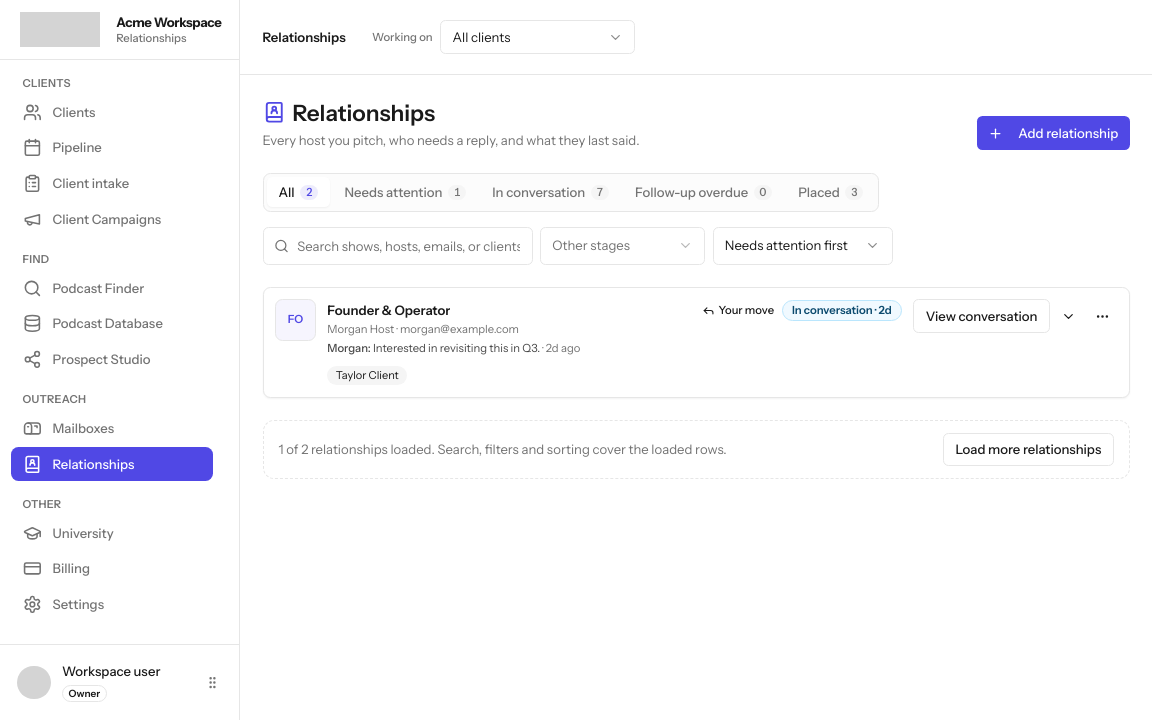
WorkspaceRelationships › turns the header chips into filters with whole-book counts
expect the button "Founder & Operator" is shown: met, box 327,299 -> 450,322
expect the buttons read "All 2", "Needs attention 1", "In conversation 7", "Follow-up overdue 0", "Placed 3", in this order: met, box 267,177 -> 330,207; 333,177 -> 477,207; 481,177 -> 620,207; 624,177 -> 783,207; 787,177 -> 875,207
Step 1. Click the button "Load more relationships" → click(1028, 449), box 943,432 -> 1114,466
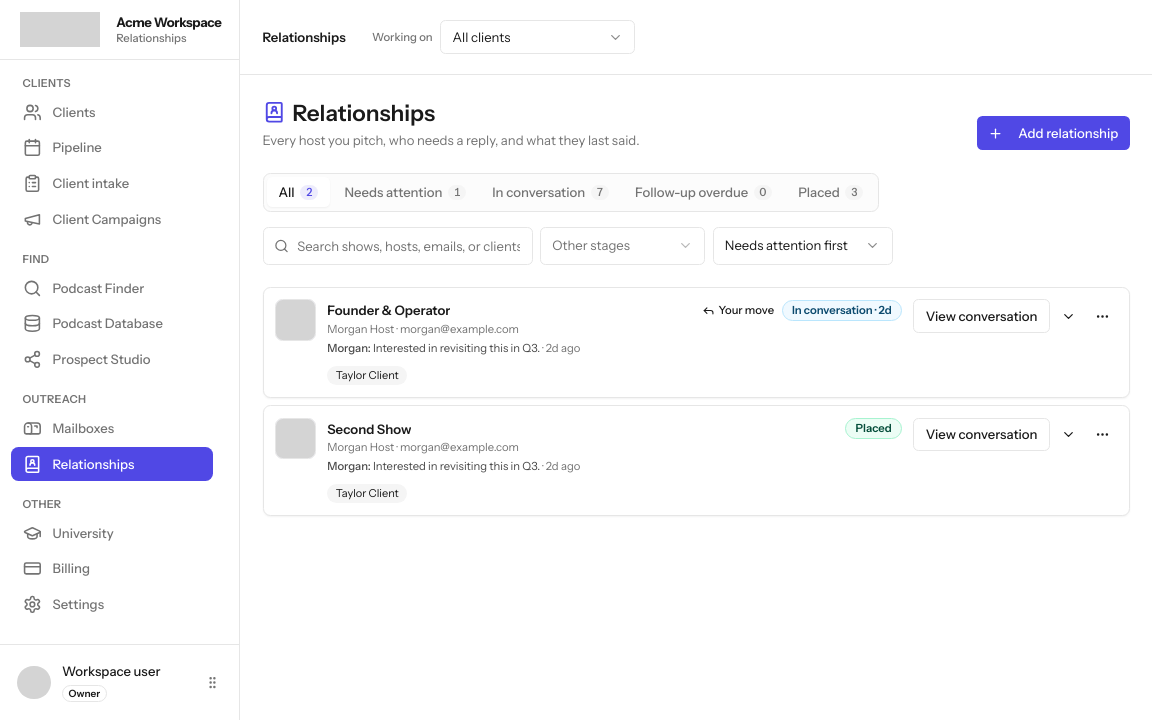
expect the button "Second Show" is shown: met, box 327,418 -> 411,440
Step 2. Click the button "Placed 3" → click(831, 192), box 787,177 -> 875,207
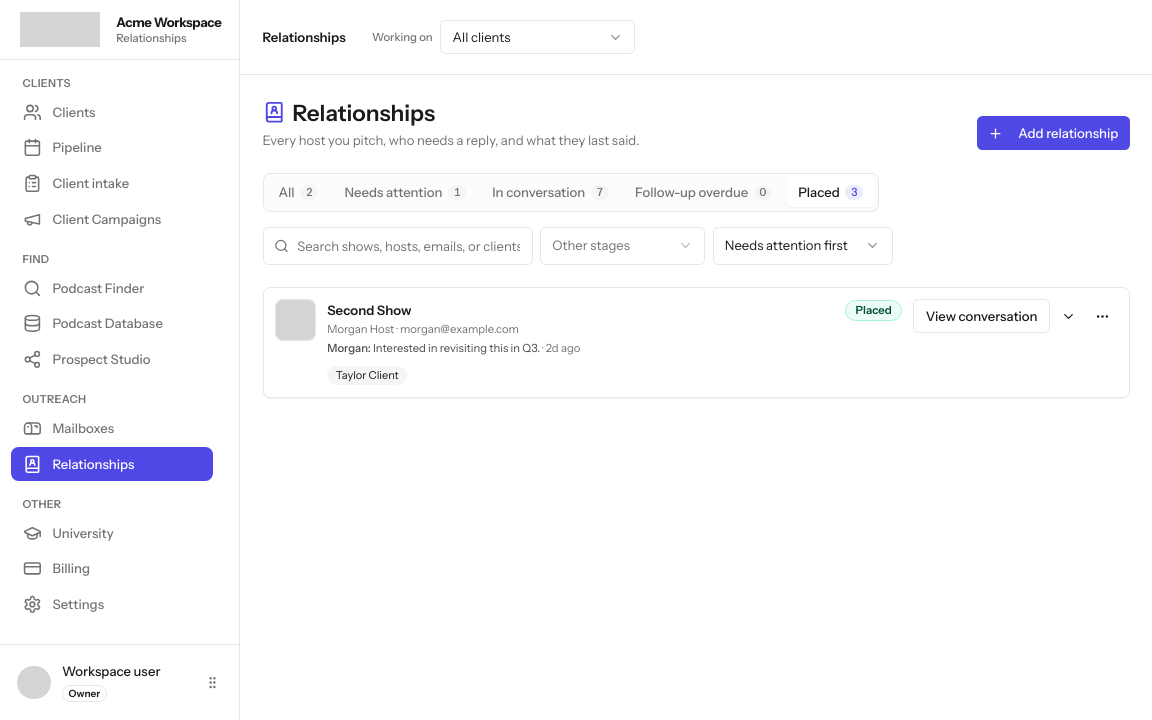
expect the button "Second Show" is shown: met, box 327,299 -> 411,322
expect the button "Founder & Operator" is gone: met
Step 3. Click the button "All 2" → click(298, 192), box 267,177 -> 330,207
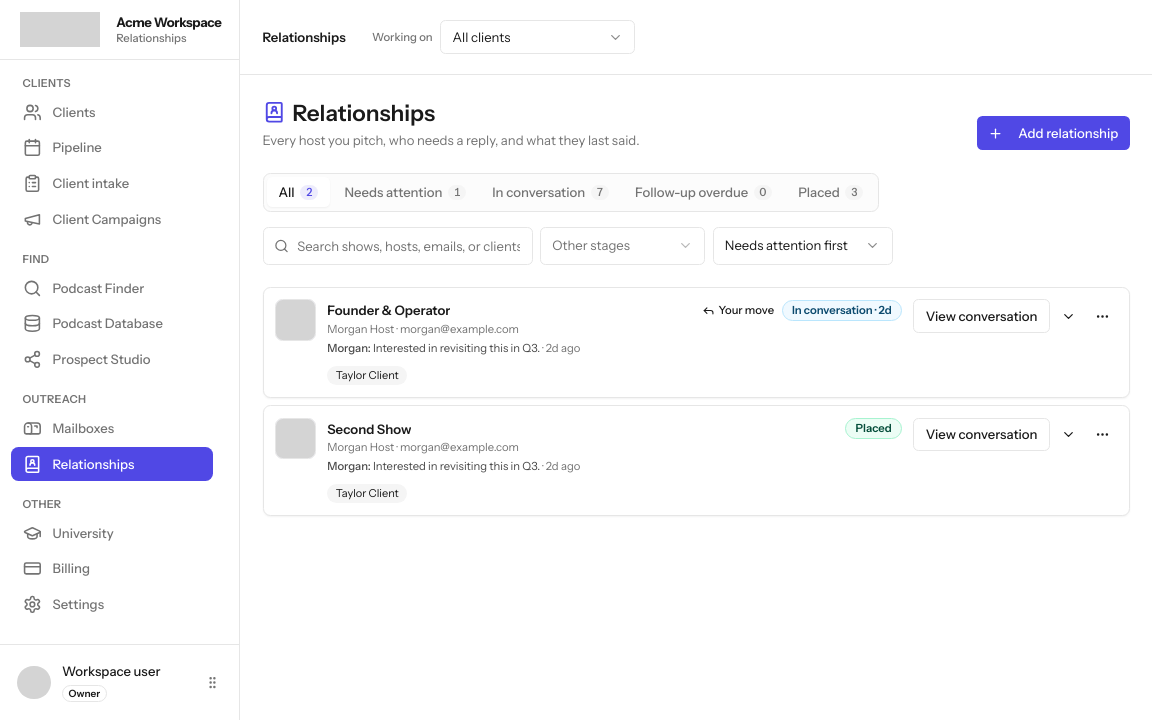
expect the button "Founder & Operator" is shown: met, box 327,299 -> 450,322
